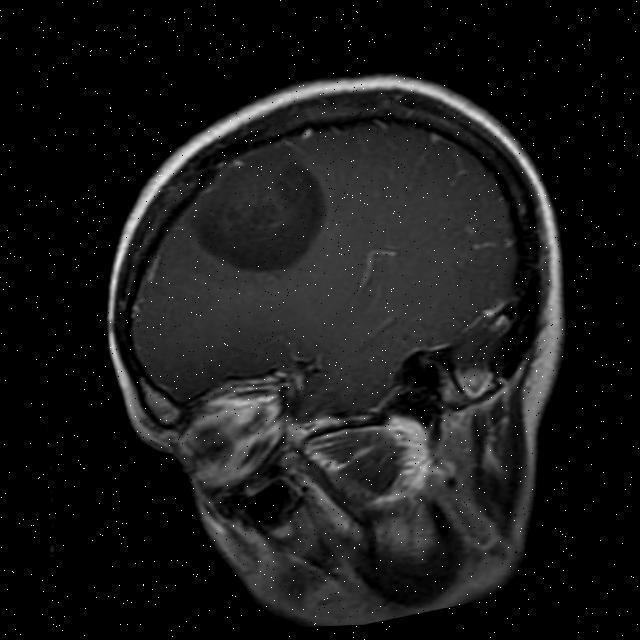Glioma: (179, 137, 338, 286)
